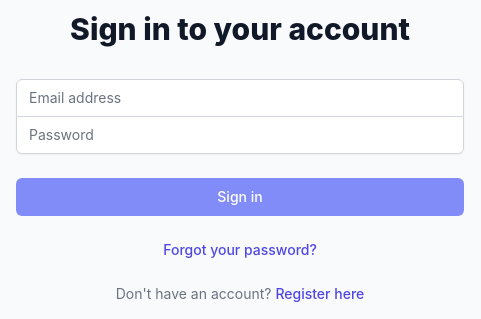
Test case: LoginForm › disables submit until valid email and password are provided
Expected: the button "Sign in" is disabled, [16,178,464,216]
Type "user@example.com" into the field labelled "Email address".
click(240, 98); type("user@example.com")  # box [16,78,464,116]
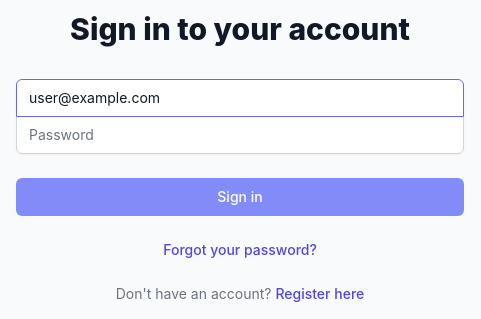
Type "password123" into the password field labelled "Password".
click(240, 134); type("password123")  # box [16,116,464,154]
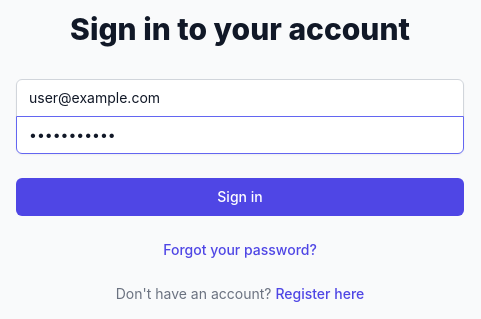
Now the button "Sign in" is enabled, box [16,178,464,216]
